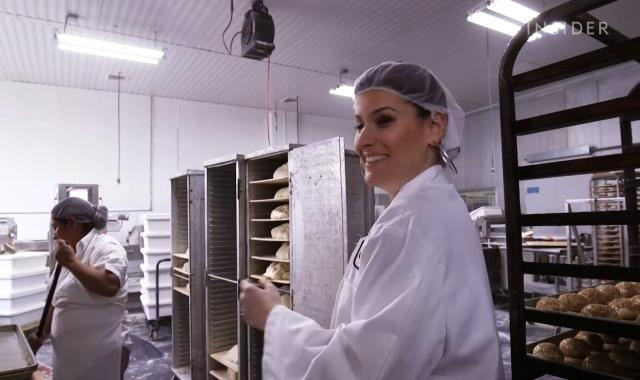hairnet: (352, 54, 467, 148), (48, 195, 107, 234)
